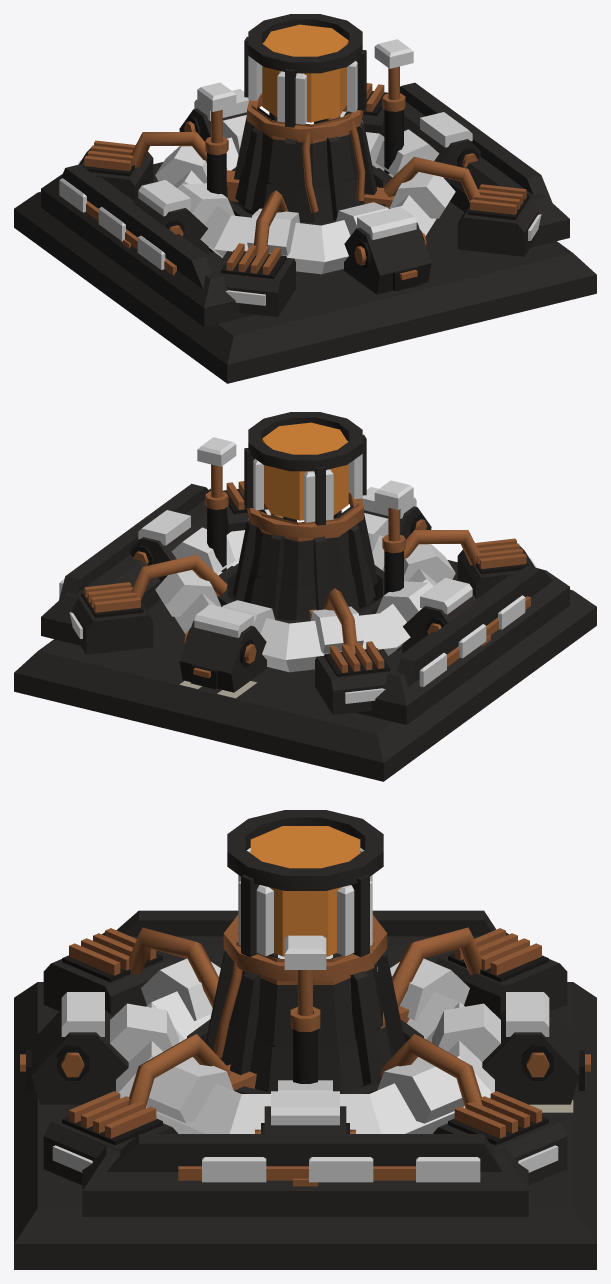
Rendered from str_t2_mex.6251a989.glb.
3 views of the same model, one above another, from view 1: azimuth 30°, elevation 25°; view 2: azimuth 150°, elevation 25°; view 3: azimuth 270°, elevation 25° (orthographic). The views are drawn at different scales.
Parts seen in each view (by area): view 1: lod0; view 2: lod0; view 3: lod0.
Part boxes in pixels (<box>): lod0: <box>14,14,596,383</box>; lod0: <box>14,412,596,781</box>; lod0: <box>14,810,596,1269</box>.
Size of what is drawn, in the model's own units: 1.96 by 1.13 by 1.96.
